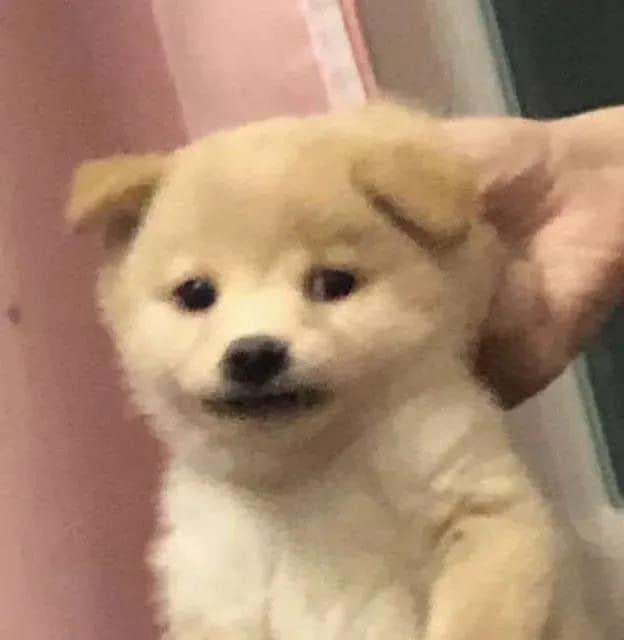dog: (68, 99, 558, 638)
